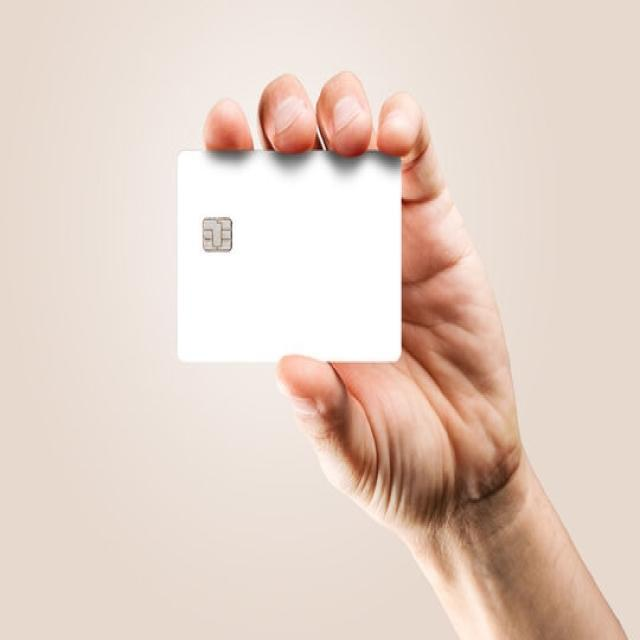payment_card: (175, 148, 403, 364)
